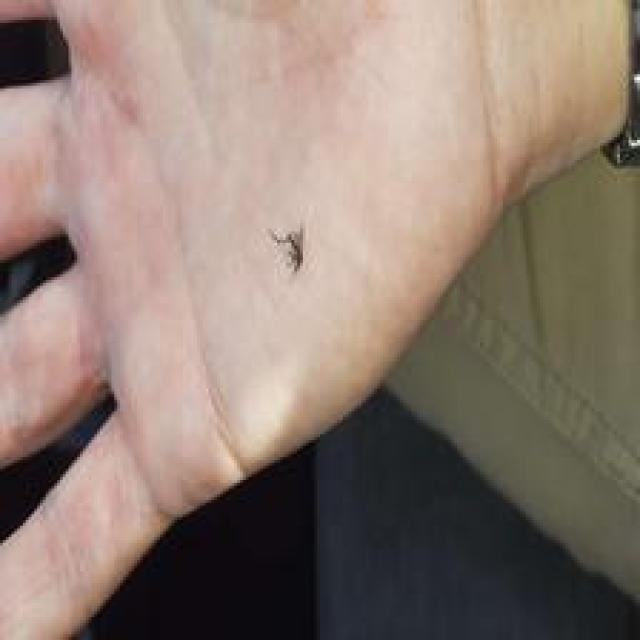Aedes albopictus: (267, 224, 304, 273)
